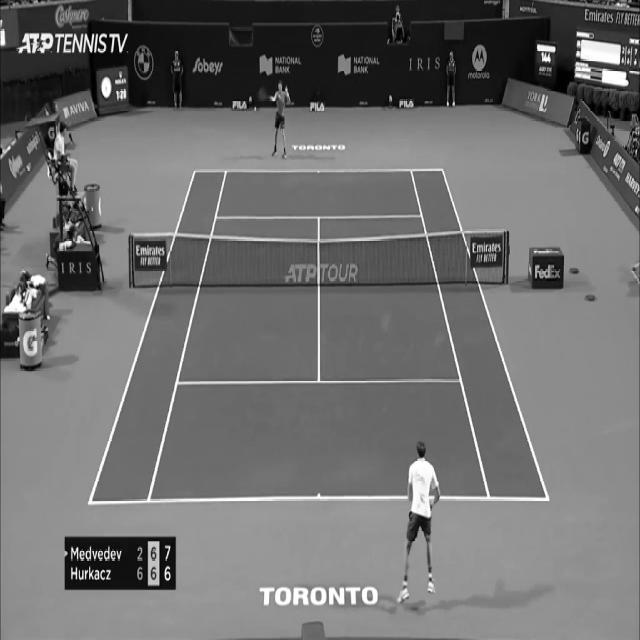tennis-court: (87, 169, 550, 505)
